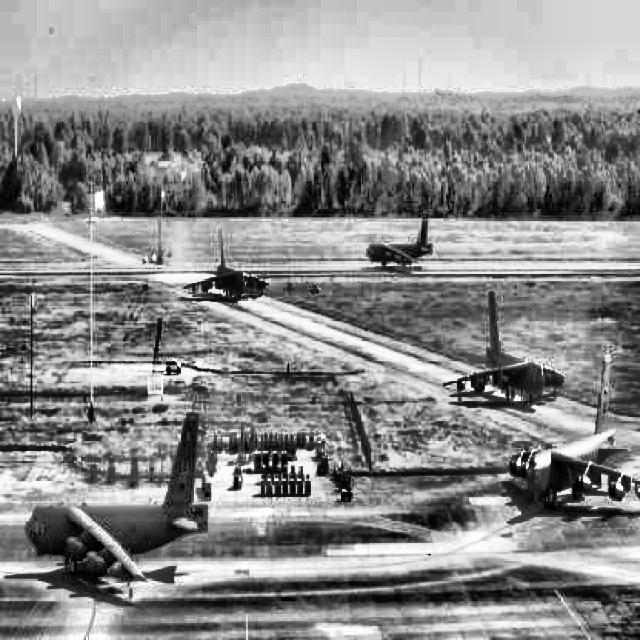B52: (25, 412, 209, 598), (509, 354, 640, 511), (442, 291, 566, 406), (184, 228, 268, 301), (366, 209, 432, 271)
